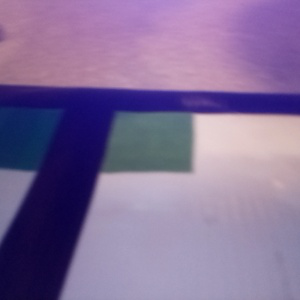bottom_left: (1, 87, 98, 171)
bottom_right: (64, 87, 193, 172)
